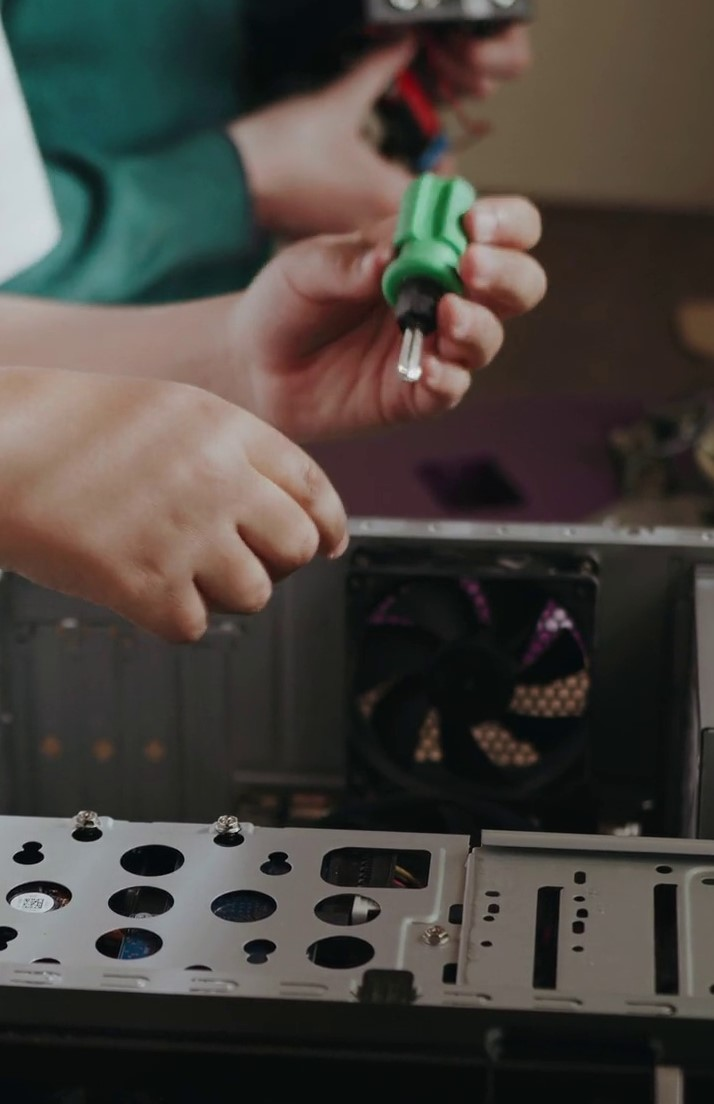screwdriver: (377, 166, 481, 393)
